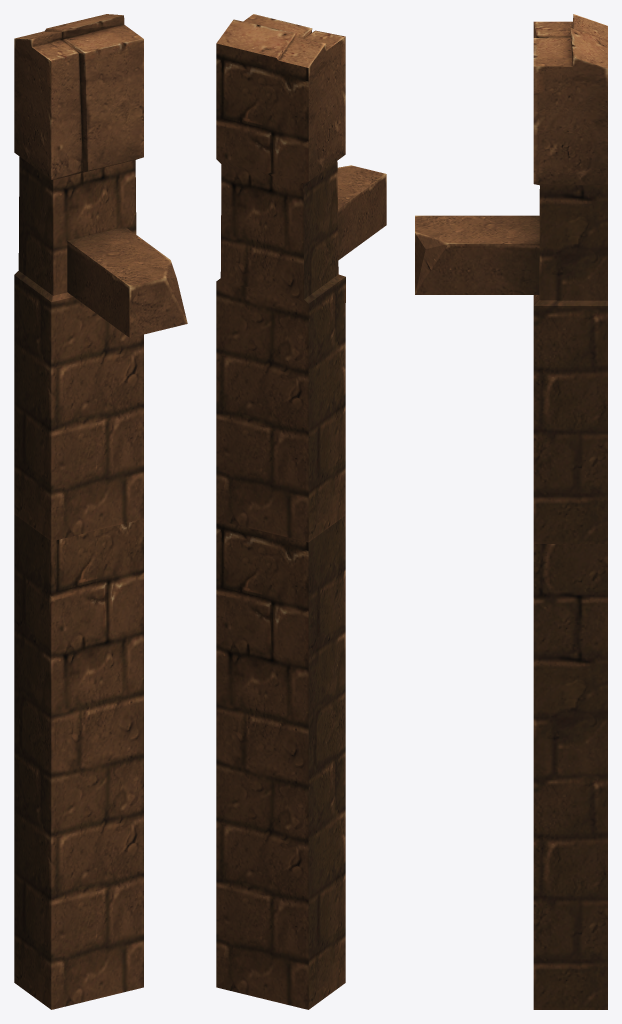
The model's file is Qiang03.FBX.
3 views of the same model, side by side, from view 1: azimuth 30°, elevation 25°; view 2: azimuth 150°, elevation 25°; view 3: azimuth 270°, elevation 25° (orthographic).
Parts seen in each view (by area): view 1: Qiang03; view 2: Qiang03; view 3: Qiang03.
Boxes of the visible parts, x1,y1,x2,y2 form: Qiang03: (14,14,187,1009); Qiang03: (216,14,386,1009); Qiang03: (415,14,607,1009).
Size of the model in its own units: 120 by 1190 by 218.
